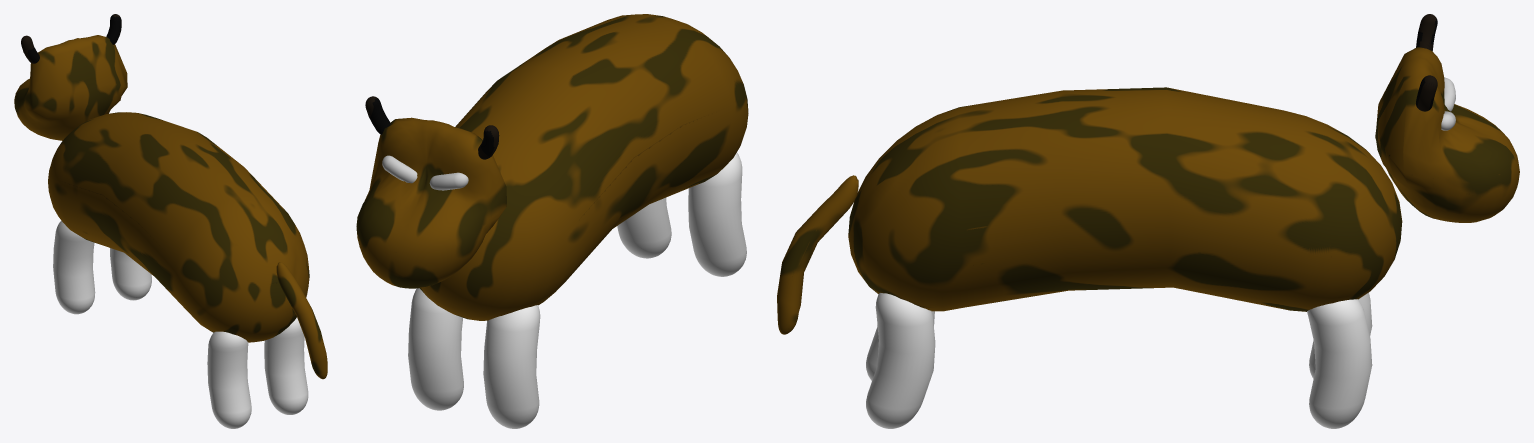
File: bow.fbx
The picture shows the model from 3 angles, left to right: view 1: azimuth 30°, elevation 25°; view 2: azimuth 150°, elevation 25°; view 3: azimuth 270°, elevation 25°; orthographic projection. The views are drawn at different scales.
Visible parts, largest first — view 1: Sphere.004, Sphere.001, Sphere.005; view 2: Sphere.004, Sphere.001, Sphere.002, Sphere.005; view 3: Sphere.004, Sphere.001, Sphere.005.
Part boxes in pixels (x1,y1,x2,y2): Sphere.004: [14, 35, 327, 379]; Sphere.001: [53, 220, 308, 428]; Sphere.005: [21, 14, 121, 63]; Sphere.004: [356, 14, 748, 320]; Sphere.001: [408, 152, 746, 428]; Sphere.002: [382, 155, 468, 190]; Sphere.005: [365, 96, 499, 159]; Sphere.004: [777, 47, 1519, 334]; Sphere.001: [866, 292, 1372, 428]; Sphere.005: [1416, 14, 1437, 111].
Size of the model in its own units: 200 by 398 by 741.
